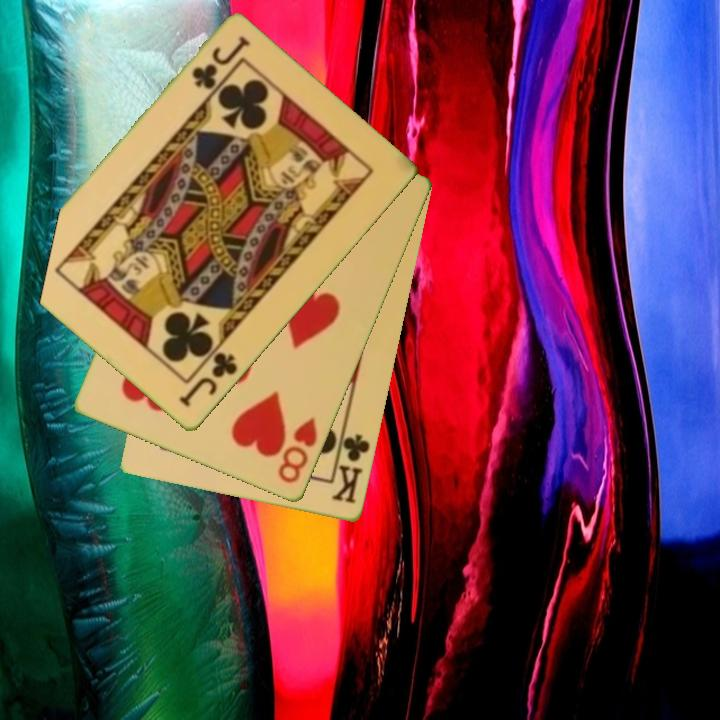8h: (274, 414, 321, 487)
Jc: (175, 348, 241, 411), (188, 33, 253, 94)
Kc: (328, 424, 374, 507)
